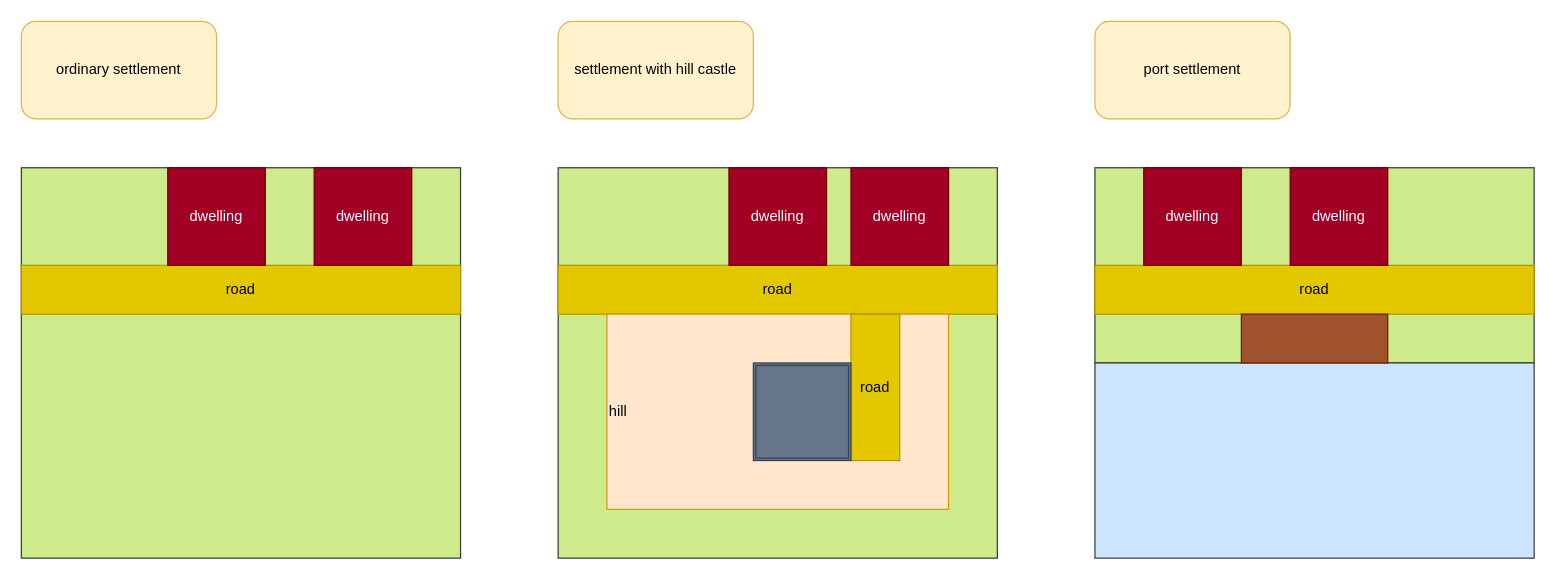
This 1556x580 diagram has some shape labels left out. The centre of each missing label's shape, as x and y in pixels:
castle: (x=801, y=411)
dock: (x=1314, y=338)
sea: (x=1314, y=460)
